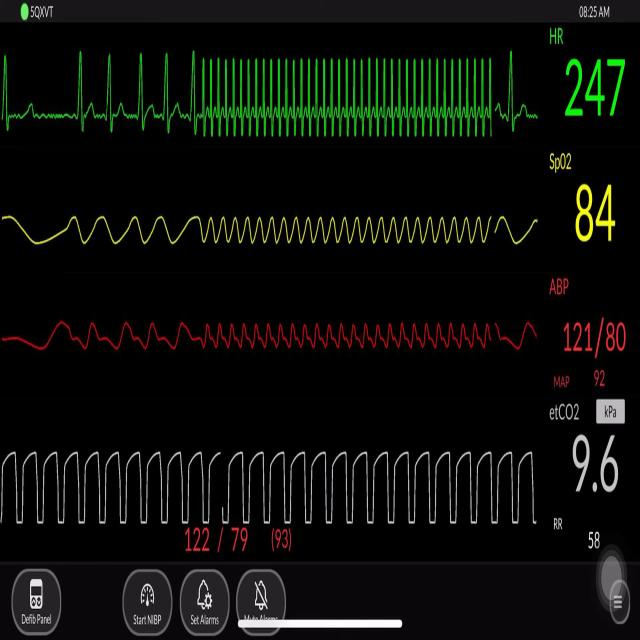danger: (200, 47, 497, 146)
